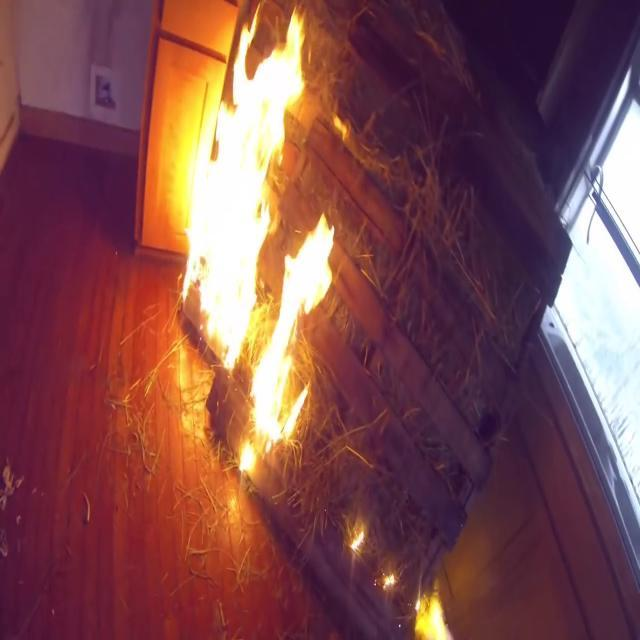Fire: (182, 0, 336, 473), (414, 578, 455, 640)
